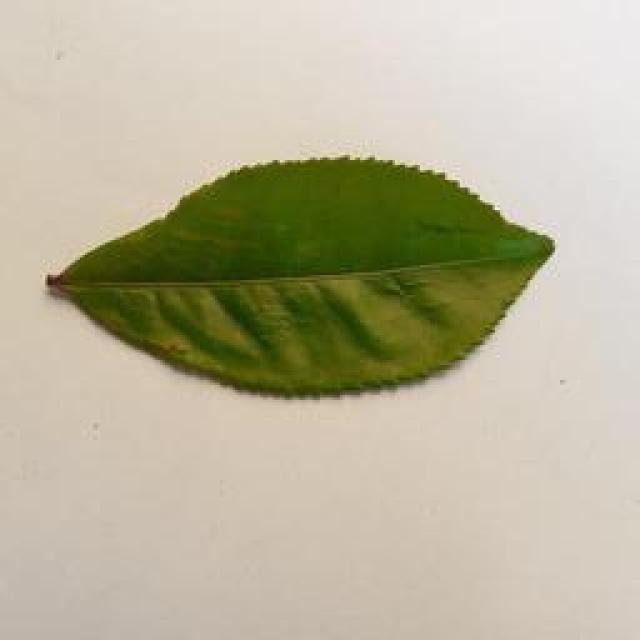Healthy: (39, 154, 553, 399)
